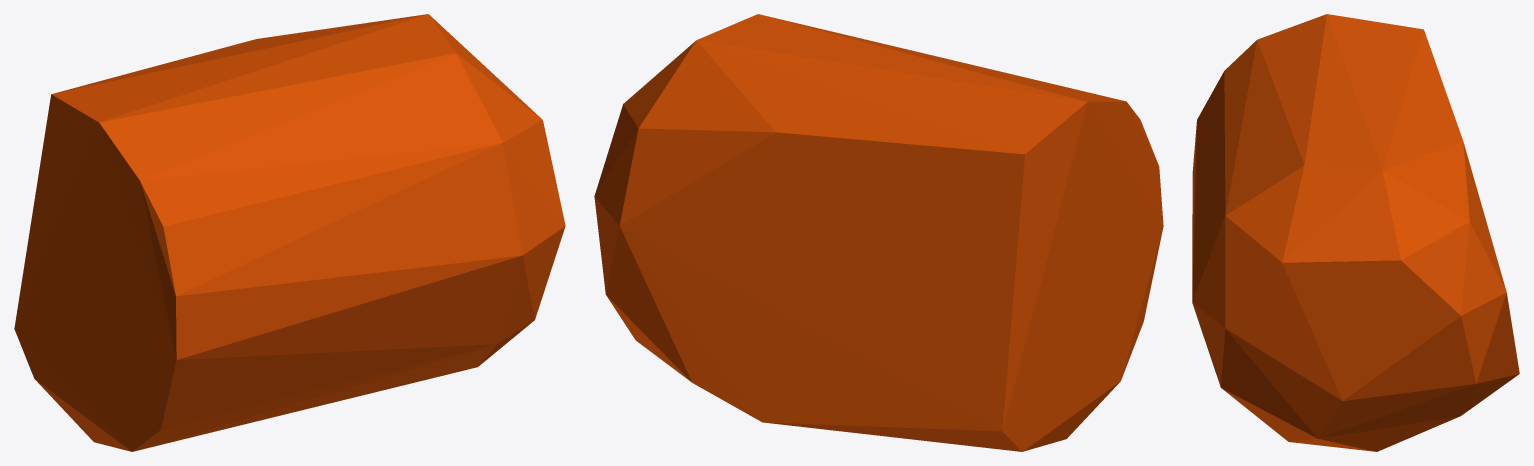
The model's file is hip-yaw-housing_convex_piece_000.obj.
The picture shows the model from 3 angles, left to right: view 1: azimuth 30°, elevation 25°; view 2: azimuth 150°, elevation 25°; view 3: azimuth 270°, elevation 25°; orthographic projection. The views are drawn at different scales.
Size of the model in its own units: 0.1009 by 0.0741 by 0.076.
